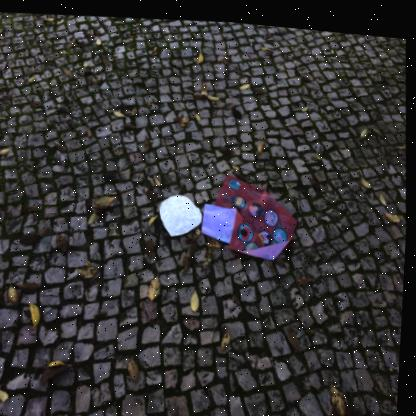Metal: (160, 190, 203, 231)
Paper: (202, 167, 298, 253)
